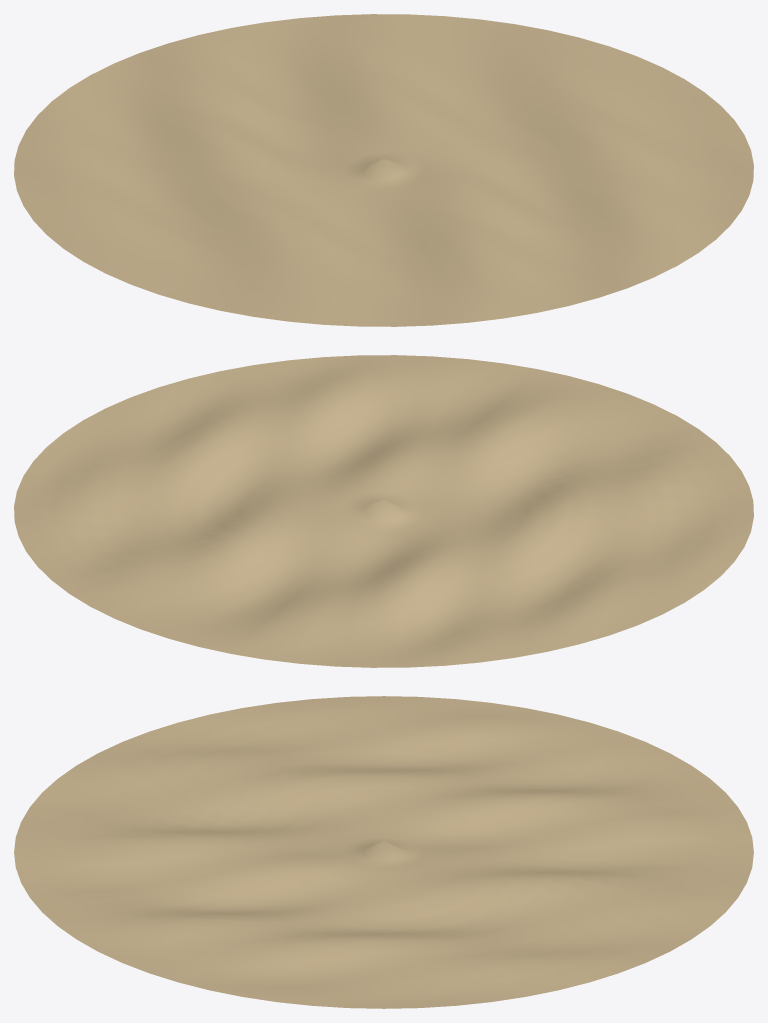
Rendered from sand.glb.
The picture shows the model from 3 angles, top to bottom: view 1: azimuth 30°, elevation 25°; view 2: azimuth 150°, elevation 25°; view 3: azimuth 270°, elevation 25°; orthographic projection.
Parts seen in each view (by area): view 1: Sand terrain; view 2: Sand terrain; view 3: Sand terrain.
Boxes of the visible parts, x1,y1,x2,y2 form: Sand terrain: [14, 14, 753, 326]; Sand terrain: [14, 355, 753, 667]; Sand terrain: [14, 696, 753, 1008].
Size of the model in its own units: 2 by 0.0586 by 2.
